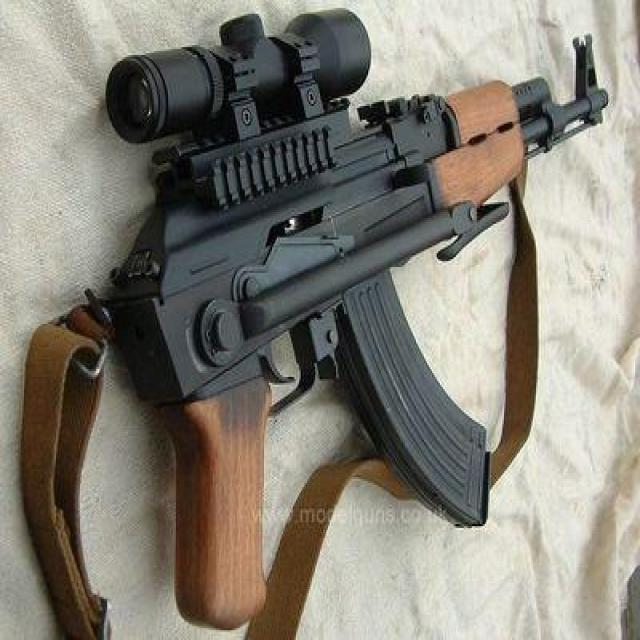Rifle: (104, 5, 611, 633)
